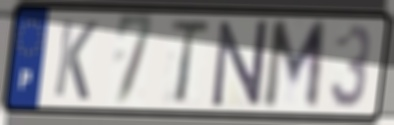3: (330, 22, 372, 112)
7: (108, 11, 156, 112)
K: (51, 16, 101, 104)
M: (260, 18, 330, 114)
N: (210, 18, 270, 111)
T: (167, 18, 213, 107)
